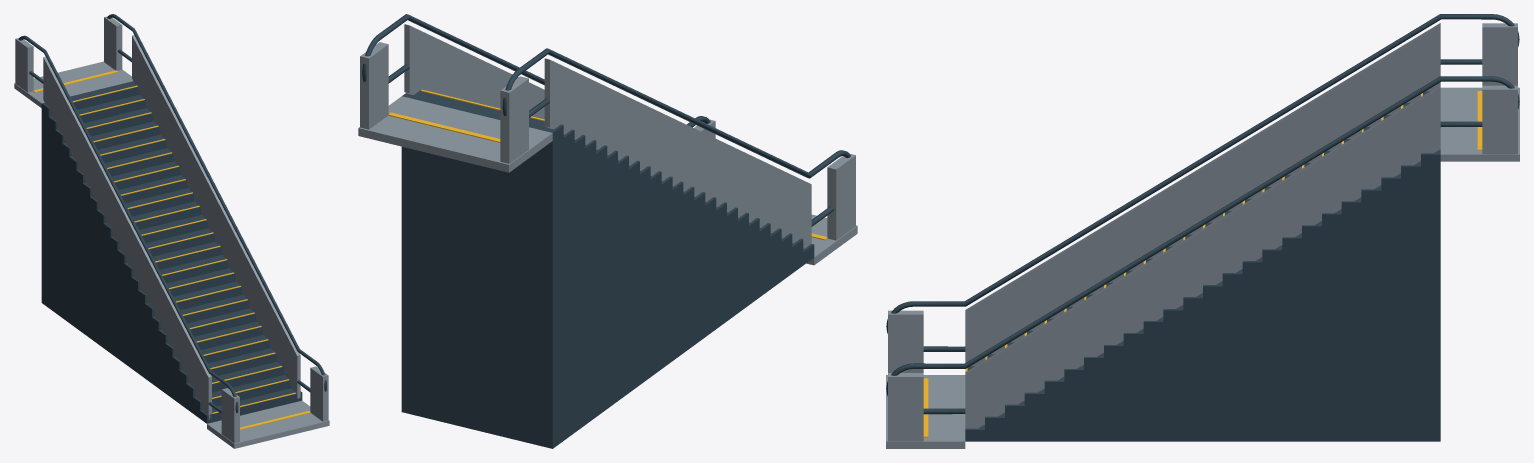
Rendered from escalator-entrance.v1.glb.
3 renders of one model, left to right at view 1: azimuth 30°, elevation 25°; view 2: azimuth 150°, elevation 25°; view 3: azimuth 270°, elevation 25°, orthographic. The views are drawn at different scales.
Parts seen in each view (by area): view 1: mesh_balustrade_0.93, mesh_balustrade_-0.93, mesh_lower_landing, mesh_step_23, mesh_step_22, mesh_step_21, mesh_step_20, mesh_step_19, mesh_step_18, mesh_step_15, mesh_step_17, mesh_step_14 (+22 smaller); view 2: mesh_step_23, mesh_balustrade_-0.93, mesh_upper_landing, mesh_balustrade_0.93, mesh_step_22, mesh_step_21, mesh_step_20, mesh_step_19, mesh_handrail_belt_-0.93, mesh_step_18, mesh_step_17, mesh_step_16 (+20 smaller); view 3: mesh_balustrade_0.93, mesh_balustrade_-0.93, mesh_step_23, mesh_step_22, mesh_step_20, mesh_step_21, mesh_step_19, mesh_handrail_belt_0.93, mesh_handrail_belt_-0.93, mesh_step_18, mesh_step_17, mesh_step_16 (+20 smaller).
Part boxes in pixels (x1=…): mesh_balustrade_0.93: x1=132, y1=35, x2=300, y2=398; mesh_balustrade_-0.93: x1=43, y1=56, x2=211, y2=419; mesh_lower_landing: x1=207, y1=400, x2=329, y2=448; mesh_step_23: x1=41, y1=81, x2=140, y2=307; mesh_step_22: x1=48, y1=94, x2=146, y2=312; mesh_step_21: x1=55, y1=108, x2=153, y2=317; mesh_step_20: x1=62, y1=121, x2=160, y2=322; mesh_step_19: x1=69, y1=134, x2=167, y2=327; mesh_step_18: x1=76, y1=148, x2=174, y2=332; mesh_step_15: x1=96, y1=188, x2=194, y2=347; mesh_step_17: x1=83, y1=161, x2=181, y2=337; mesh_step_14: x1=103, y1=201, x2=201, y2=352; mesh_step_23: x1=401, y1=90, x2=563, y2=448; mesh_balustrade_-0.93: x1=544, y1=58, x2=811, y2=248; mesh_upper_landing: x1=358, y1=96, x2=552, y2=172; mesh_balustrade_0.93: x1=404, y1=24, x2=544, y2=119; mesh_step_22: x1=563, y1=129, x2=574, y2=440; mesh_step_21: x1=574, y1=135, x2=585, y2=432; mesh_step_20: x1=585, y1=140, x2=596, y2=424; mesh_step_19: x1=596, y1=145, x2=607, y2=416; mesh_handrail_belt_-0.93: x1=502, y1=48, x2=850, y2=226; mesh_step_18: x1=607, y1=150, x2=617, y2=408; mesh_step_17: x1=618, y1=155, x2=628, y2=400; mesh_step_16: x1=629, y1=160, x2=639, y2=392; mesh_balustrade_0.93: x1=965, y1=85, x2=1440, y2=428; mesh_balustrade_-0.93: x1=965, y1=23, x2=1440, y2=366; mesh_step_23: x1=1421, y1=91, x2=1440, y2=441; mesh_step_22: x1=1401, y1=103, x2=1420, y2=441; mesh_step_20: x1=1361, y1=127, x2=1381, y2=441; mesh_step_21: x1=1381, y1=115, x2=1400, y2=441; mesh_step_19: x1=1341, y1=139, x2=1361, y2=441; mesh_handrail_belt_0.93: x1=886, y1=76, x2=1519, y2=414; mesh_handrail_belt_-0.93: x1=886, y1=14, x2=1519, y2=351; mesh_step_18: x1=1322, y1=151, x2=1341, y2=441; mesh_step_17: x1=1302, y1=163, x2=1321, y2=441; mesh_step_16: x1=1282, y1=175, x2=1301, y2=441.
Bounding box in the file's own units: 2 × 5.15 × 8.
